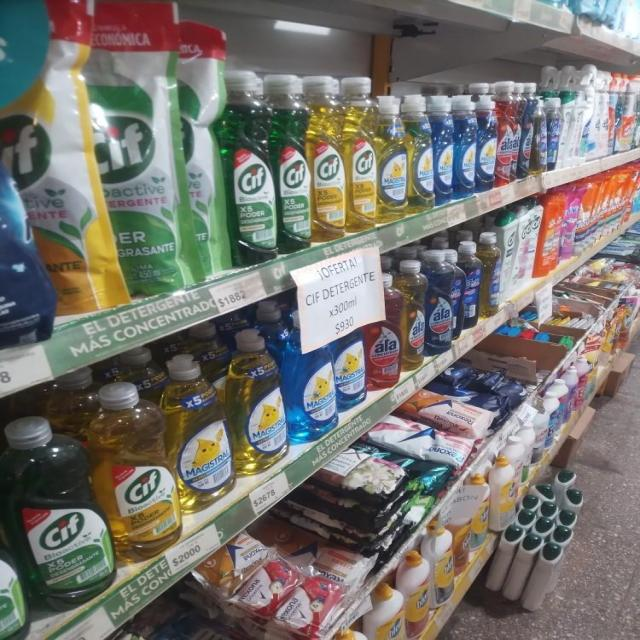ala_conc_amarillo: (401, 259, 425, 372)
ala_conc_rojo: (366, 269, 400, 390)
cif_conc_bot_amarilla: (100, 381, 174, 563), (312, 75, 346, 242), (346, 75, 376, 233)
cif_conc_botella_verde: (10, 415, 110, 611), (229, 69, 276, 264), (276, 72, 310, 254), (0, 462, 22, 640)
magistral_con_amarillo: (170, 353, 230, 513), (231, 328, 285, 475), (378, 92, 408, 220), (408, 94, 433, 210)
magistral_con_azul: (454, 93, 475, 198), (434, 93, 453, 203), (476, 88, 496, 192)
